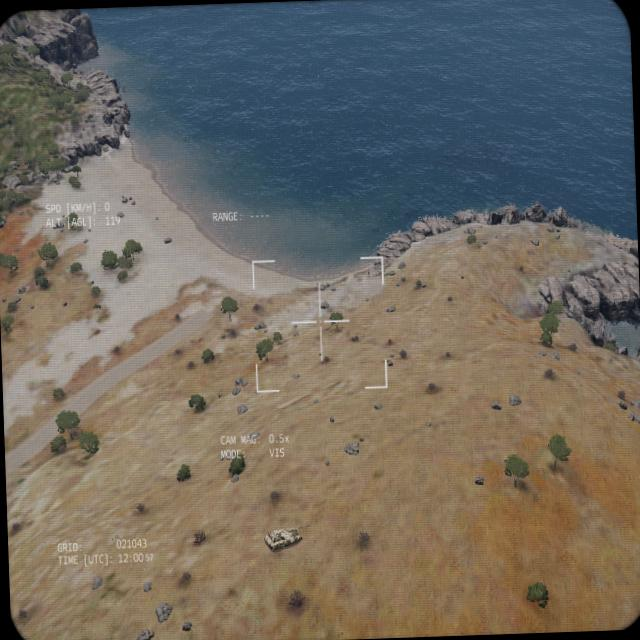tank: (262, 521, 311, 554)
